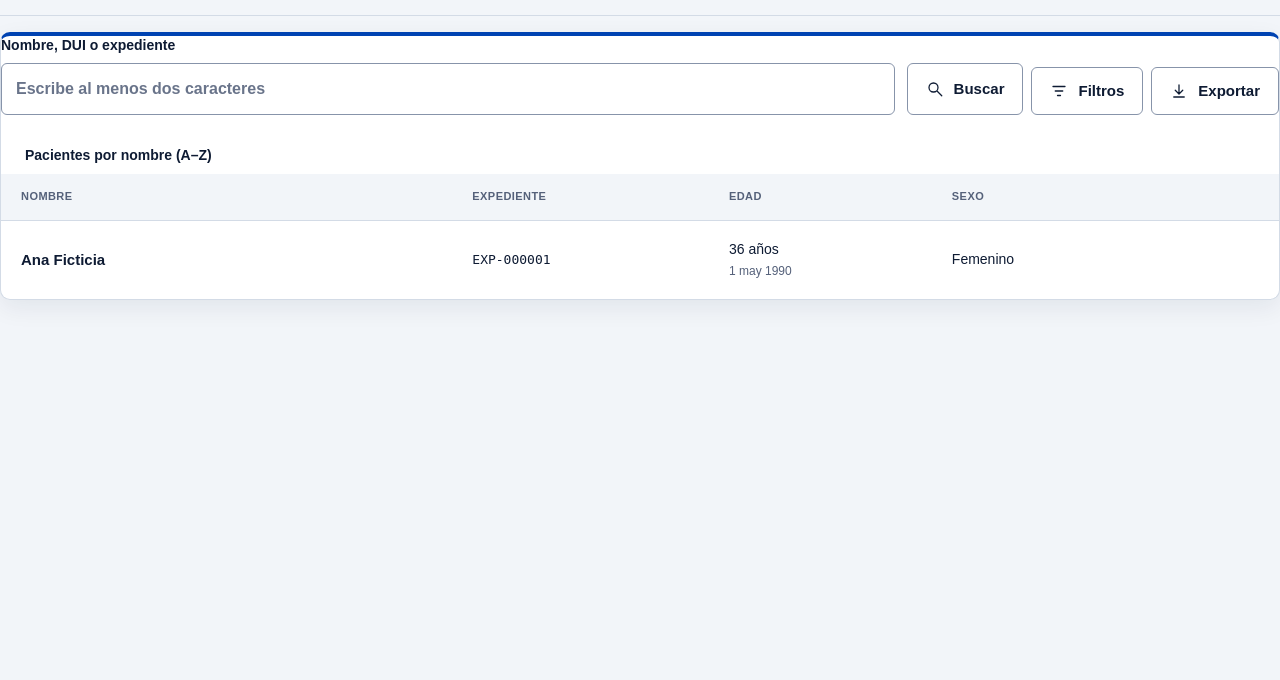
it: ficha: cuenta de la app › explica que un correo repetido impide vincular
The image size is (1280, 680).
Click the button with aria-label "Abrir ficha de Ana Ficticia": (63, 259) top-left (21, 248), bottom-right (105, 271)
(page scrolled)
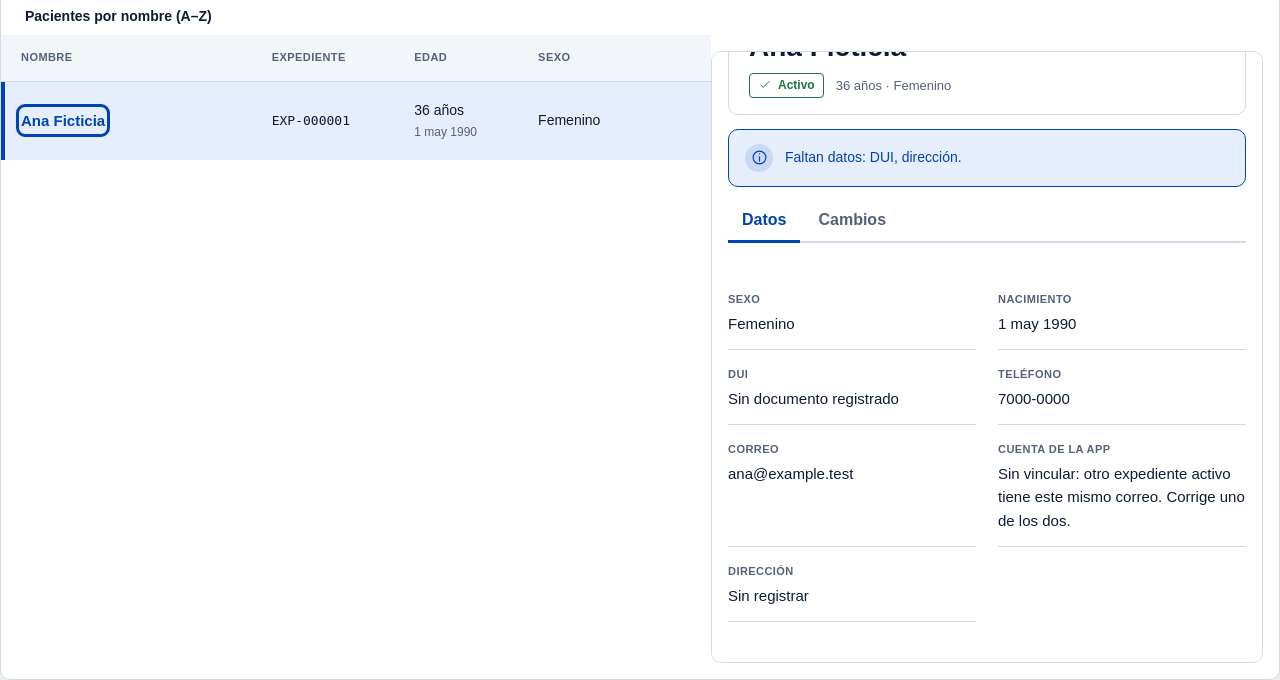
expect the text "otro expediente activo tiene este mismo correo" is shown: met, box top-left (998, 465), bottom-right (1245, 529)
